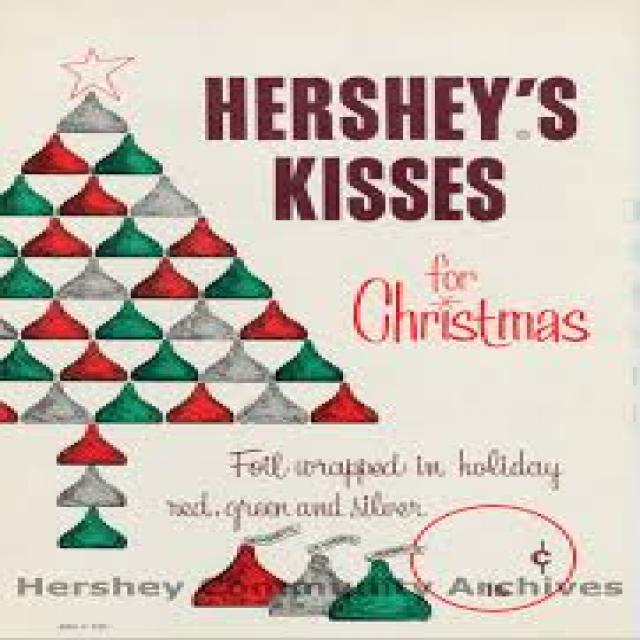kisses: (257, 544, 365, 626), (118, 172, 211, 226), (45, 465, 131, 516), (61, 252, 136, 309), (47, 90, 133, 136), (240, 377, 307, 435), (20, 381, 89, 434), (164, 294, 235, 343), (205, 344, 269, 390)
